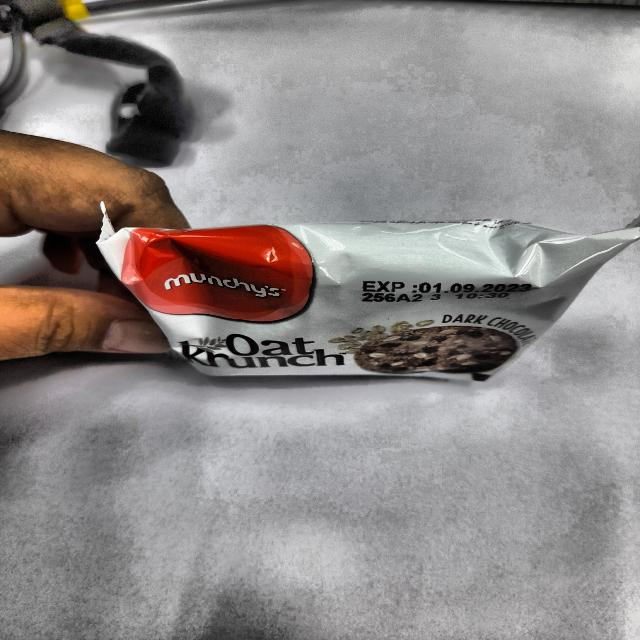Plastic: (110, 217, 588, 387)
